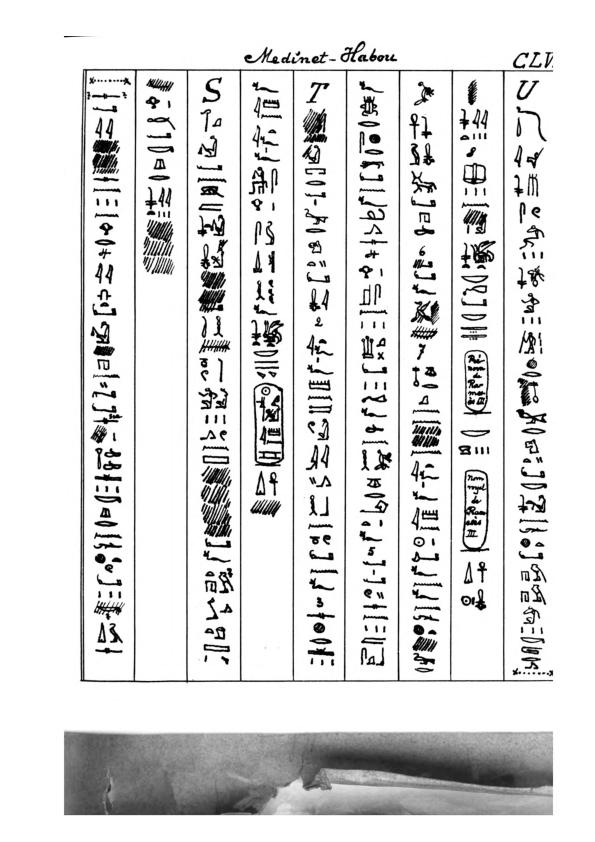circle: (250, 382, 287, 470), (459, 465, 493, 556), (461, 348, 493, 418)
